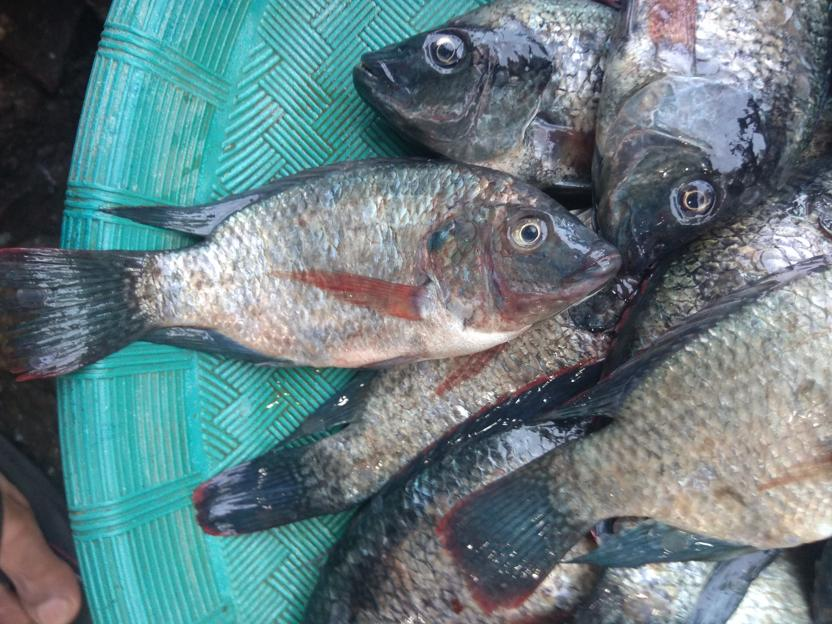Fish head: (595, 73, 774, 265), (352, 7, 555, 166), (432, 186, 624, 338)
Fish tail: (443, 434, 598, 612), (1, 246, 161, 384), (190, 431, 341, 538)
